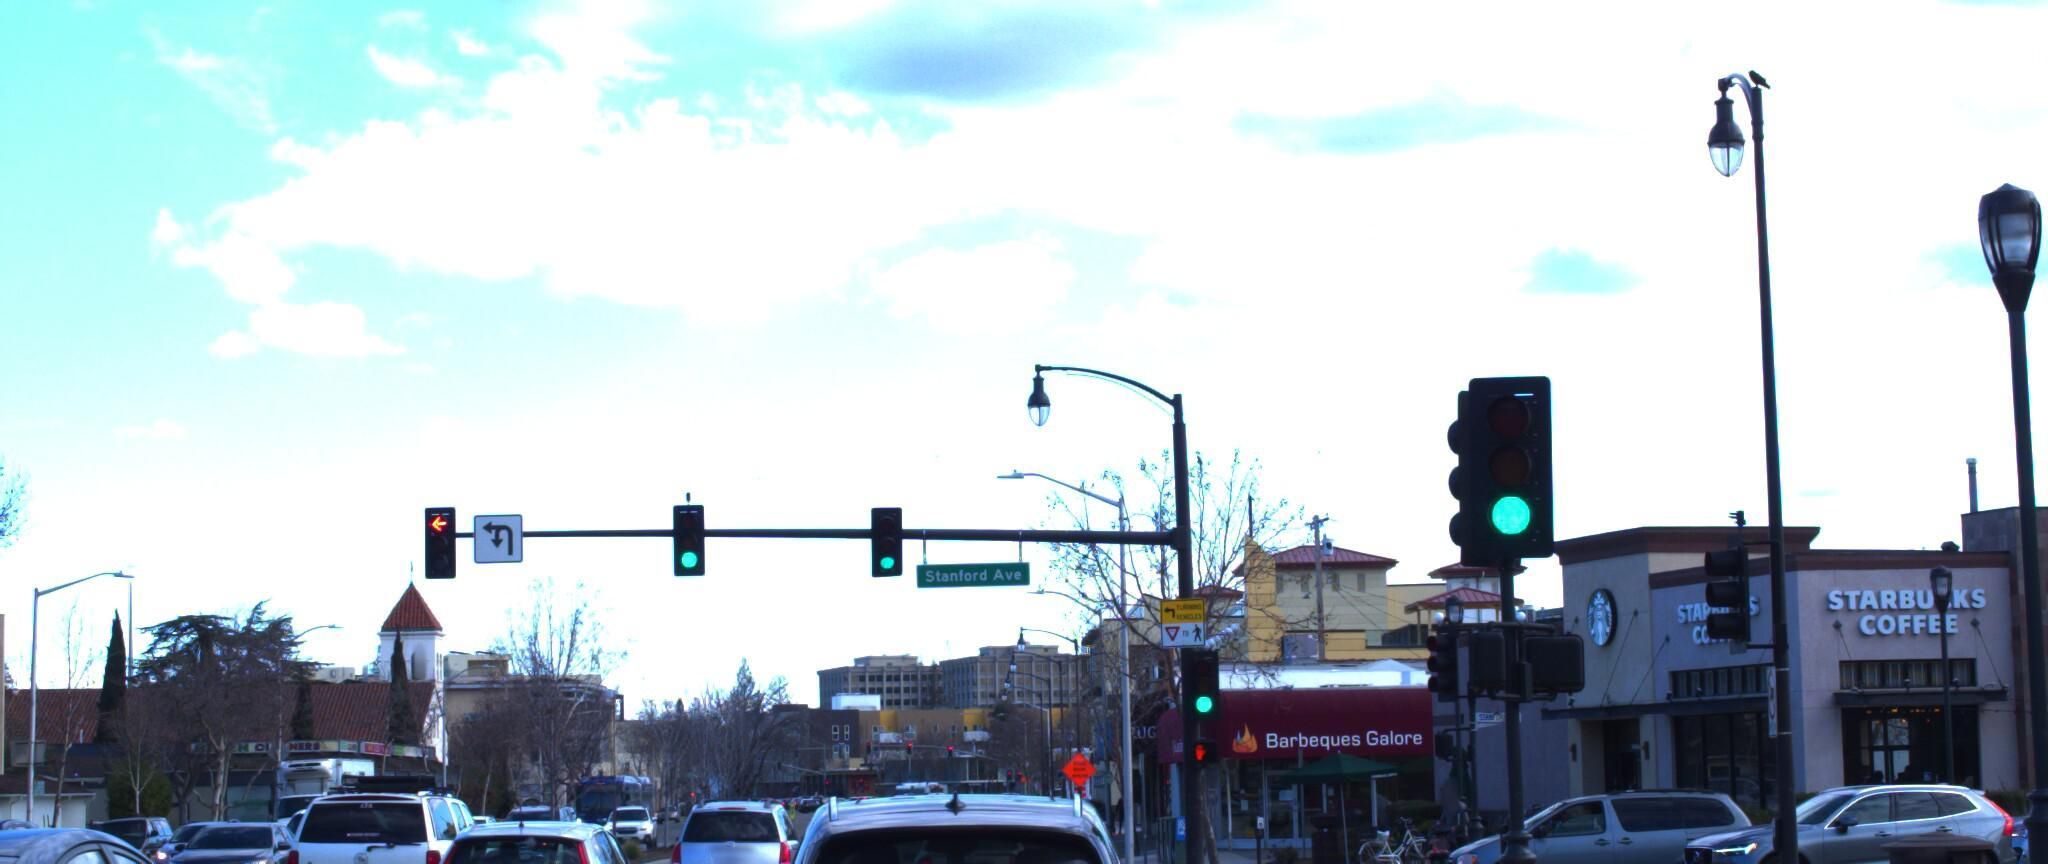bicycle: (1330, 794, 1437, 859)
car: (714, 764, 1198, 864), (1637, 764, 2024, 864), (1413, 764, 1755, 864), (0, 775, 340, 864), (1601, 810, 2048, 864), (277, 758, 502, 864), (408, 801, 671, 864), (1903, 758, 2048, 864), (664, 779, 812, 864), (153, 797, 316, 864)
